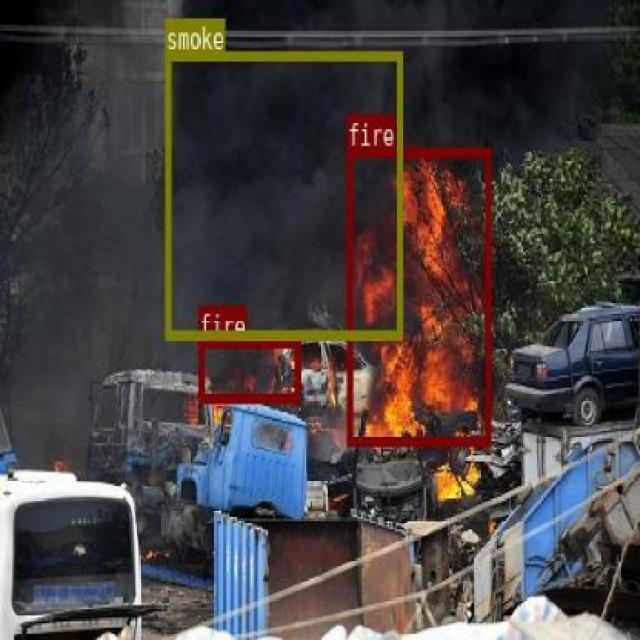fire: (347, 146, 490, 443), (198, 338, 298, 402)
smoke: (164, 50, 402, 338)
